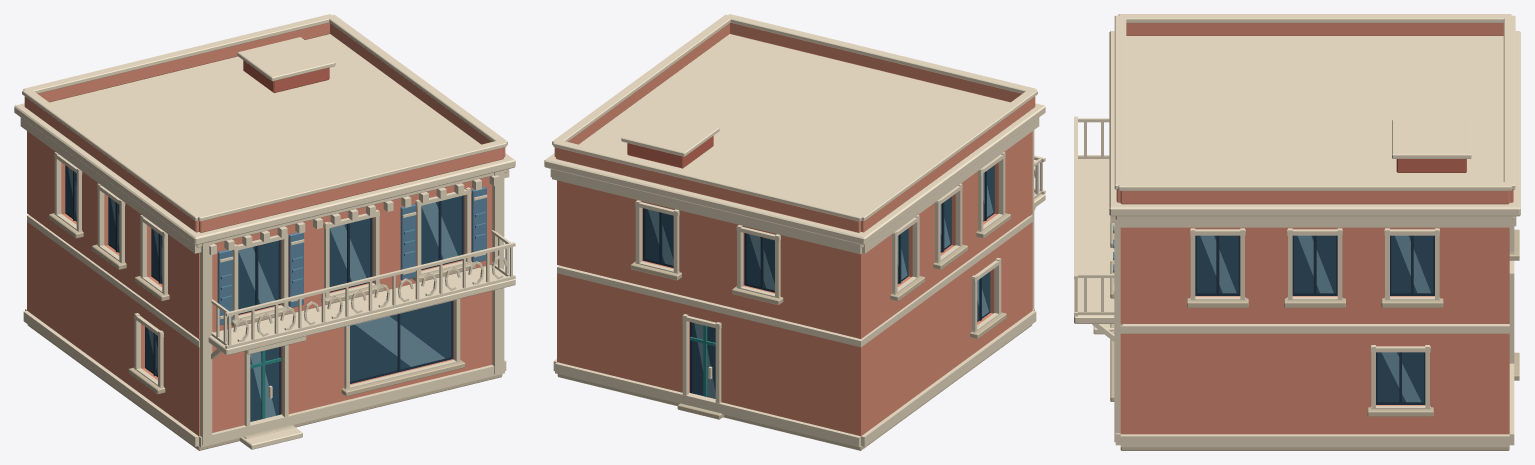
The model's file is peach_flat_roof_home.glb.
The picture shows the model from 3 angles, left to right: view 1: azimuth 30°, elevation 25°; view 2: azimuth 150°, elevation 25°; view 3: azimuth 270°, elevation 25°; orthographic projection. The views are drawn at different scales.
Parts seen in each view (by area): view 1: PeachFlatRoofHome_StaticMesh; view 2: PeachFlatRoofHome_StaticMesh; view 3: PeachFlatRoofHome_StaticMesh.
Part boxes in pixels (x1=…): PeachFlatRoofHome_StaticMesh: x1=14, y1=14, x2=515, y2=450; PeachFlatRoofHome_StaticMesh: x1=544, y1=14, x2=1045, y2=450; PeachFlatRoofHome_StaticMesh: x1=1074, y1=14, x2=1520, y2=450.
Bounding box in the file's own units: 9.72 × 6.91 × 10.34.
